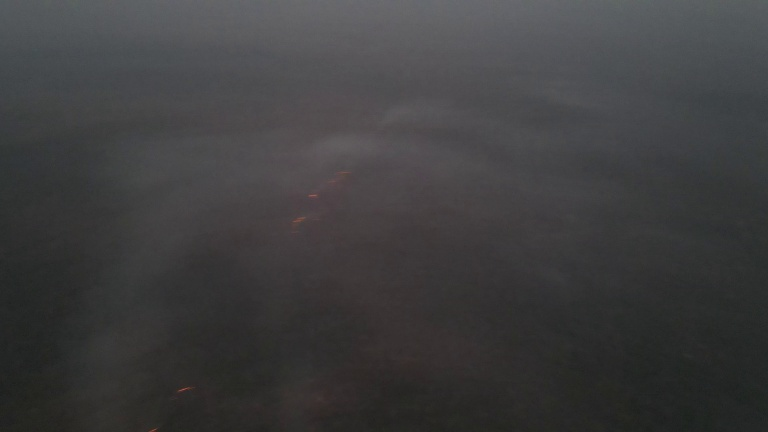fire: (307, 169, 355, 203), (288, 209, 312, 233), (174, 380, 195, 397)
smoke: (310, 130, 375, 170)
